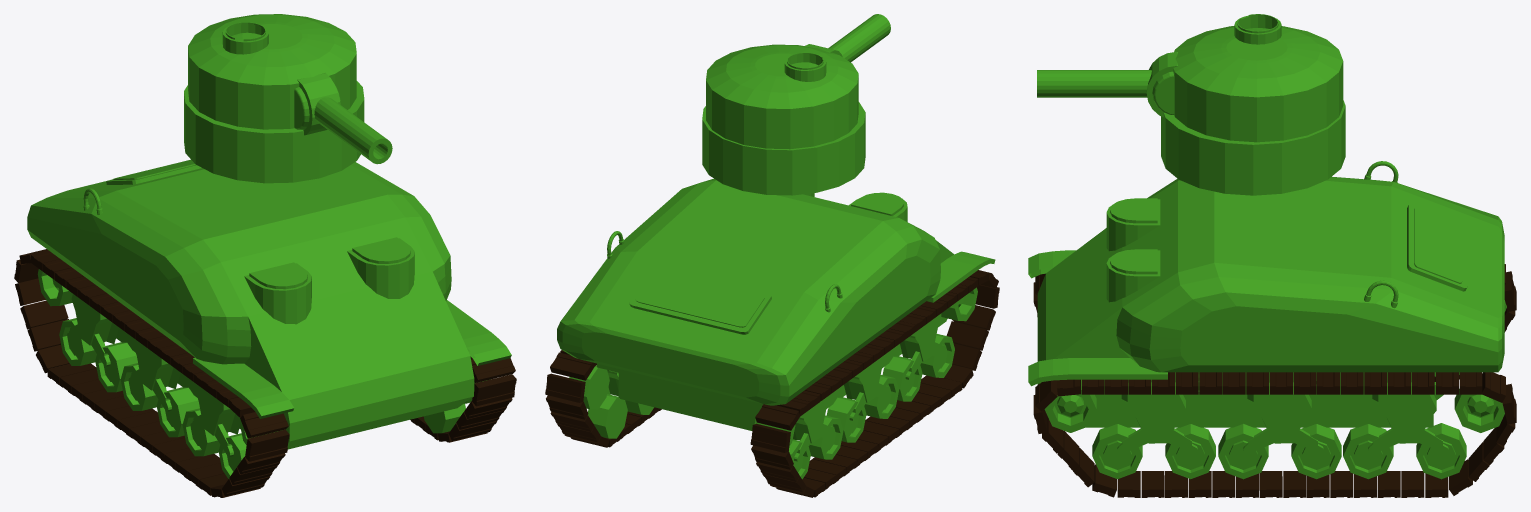
The picture shows the model from 3 angles, left to right: view 1: azimuth 30°, elevation 25°; view 2: azimuth 150°, elevation 25°; view 3: azimuth 270°, elevation 25°; orthographic projection. The views are drawn at different scales.
Parts seen in each view (by area): view 1: CartoonTankBody, CartoonTankTurrent; view 2: CartoonTankBody, CartoonTankTurrent; view 3: CartoonTankBody, CartoonTankTurrent.
Part boxes in pixels (x1,y1,x2,y2): CartoonTankBody: (14, 159, 516, 497); CartoonTankTurrent: (184, 14, 392, 183); CartoonTankBody: (545, 178, 999, 497); CartoonTankTurrent: (702, 14, 890, 195); CartoonTankBody: (1028, 161, 1516, 497); CartoonTankTurrent: (1037, 14, 1345, 195).
Bounding box in the file's own units: 1003 × 1408 × 1574.
